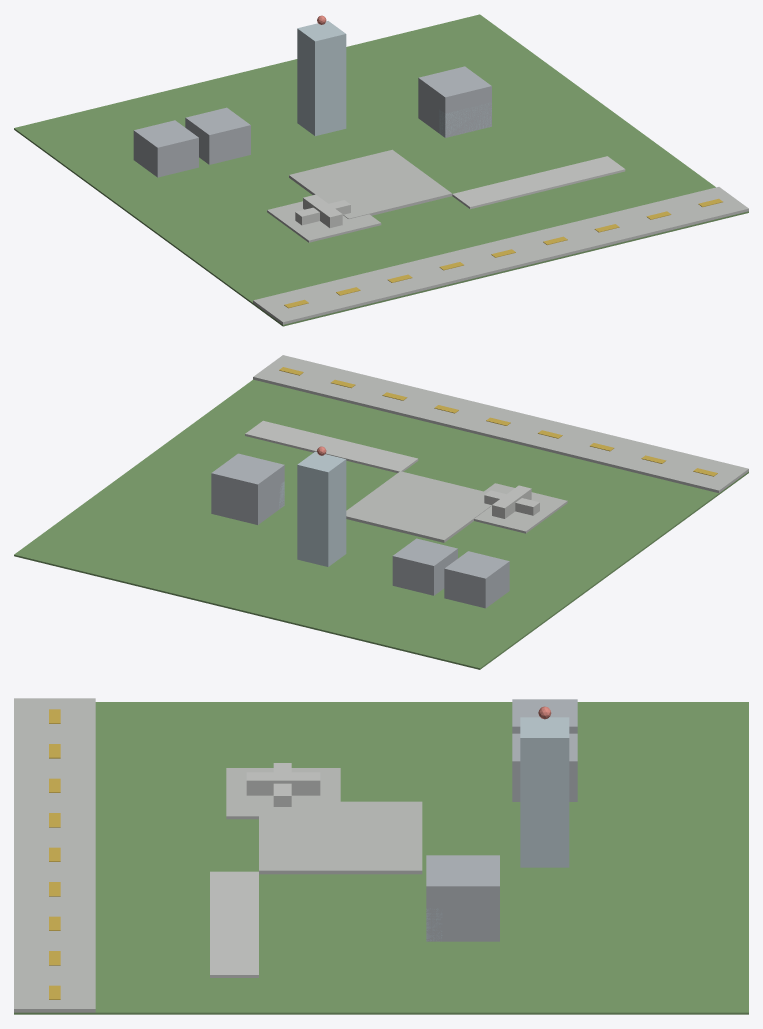
The model's file is stage_07.glb.
3 views of the same model, one above another, from view 1: azimuth 30°, elevation 25°; view 2: azimuth 150°, elevation 25°; view 3: azimuth 270°, elevation 25° (orthographic). The views are drawn at different scales.
Visible parts, largest first — view 1: geometry_0; view 2: geometry_0; view 3: geometry_0.
Boxes of the visible parts, left/top/right/bottom form: geometry_0: left=14, top=14, right=748, bottom=326; geometry_0: left=14, top=355, right=748, bottom=669; geometry_0: left=14, top=698, right=748, bottom=1014.
Size of the model in its own units: 9 by 2.06 by 9.
